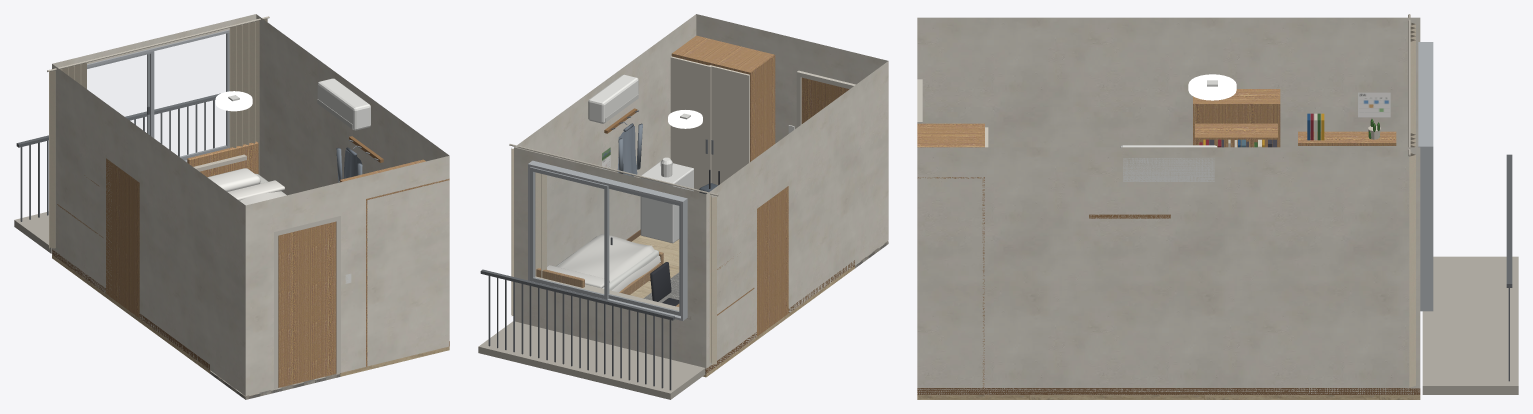
File: jp_room.glb
3 views of the same model, side by side, from view 1: azimuth 30°, elevation 25°; view 2: azimuth 150°, elevation 25°; view 3: azimuth 270°, elevation 25° (orthographic). The views are drawn at different scales.
Parts seen in each view (by area): view 1: WALL_W_wall, WALL_S_wall, WALL_E_wall, WALL_N_glass, WALL_S_door, WALL_N_curtain, WALL_W_shelf_wood, WALL_N_rail, WALL_N_frame, WALL_S_trim, WALL_E_ac, jp_room_cloth (+8 smaller); view 2: WALL_W_wall, WALL_E_wall, WALL_N_glass, WALL_N_wall, WALL_N_rail, WALL_S_closet, WALL_S_wall, WALL_N_frame, WALL_S_closet_wood, WALL_W_shelf_wood, jp_room_props, jp_room_cloth (+10 smaller); view 3: WALL_E_wall, WALL_W_wall, WALL_N_rail, WALL_W_shelf_wood, WALL_N_frame, WALL_E_trim, jp_room_floorm, WALL_E_ac, WALL_N_curtain, WALL_S_closet_wood, WALL_W_wood, jp_room_tubes (+2 smaller).
Boxes of the visible parts, bbox=[...] form: WALL_W_wall: bbox=[52, 64, 245, 395]; WALL_S_wall: bbox=[245, 156, 449, 395]; WALL_E_wall: bbox=[256, 14, 449, 195]; WALL_N_glass: bbox=[87, 34, 225, 156]; WALL_S_door: bbox=[278, 221, 336, 387]; WALL_N_curtain: bbox=[49, 19, 267, 249]; WALL_W_shelf_wood: bbox=[106, 158, 139, 318]; WALL_N_rail: bbox=[14, 93, 220, 253]; WALL_N_frame: bbox=[47, 16, 269, 162]; WALL_S_trim: bbox=[274, 216, 351, 388]; WALL_E_ac: bbox=[317, 78, 370, 130]; jp_room_cloth: bbox=[207, 168, 285, 205]; WALL_W_wall: bbox=[706, 61, 888, 372]; WALL_E_wall: bbox=[514, 14, 696, 266]; WALL_N_glass: bbox=[534, 173, 678, 310]; WALL_N_wall: bbox=[514, 147, 706, 371]; WALL_N_rail: bbox=[478, 269, 705, 399]; WALL_S_closet: bbox=[670, 56, 749, 192]; WALL_S_wall: bbox=[696, 14, 887, 143]; WALL_N_frame: bbox=[509, 144, 718, 320]; WALL_S_closet_wood: bbox=[671, 35, 775, 161]; WALL_W_shelf_wood: bbox=[757, 186, 788, 336]; jp_room_props: bbox=[556, 113, 854, 306]; jp_room_cloth: bbox=[547, 234, 660, 292]; WALL_E_wall: bbox=[917, 147, 1420, 394]; WALL_W_wall: bbox=[917, 17, 1420, 147]; WALL_N_rail: bbox=[1422, 154, 1518, 394]; WALL_W_shelf_wood: bbox=[1193, 89, 1280, 147]; WALL_N_frame: bbox=[1408, 14, 1433, 311]; WALL_E_trim: bbox=[917, 214, 1420, 394]; jp_room_floorm: bbox=[917, 395, 1420, 399]; WALL_E_ac: bbox=[1120, 145, 1216, 181]; WALL_N_curtain: bbox=[1409, 23, 1415, 387]; WALL_S_closet_wood: bbox=[917, 123, 984, 393]; WALL_W_wood: bbox=[1298, 131, 1396, 145]; jp_room_tubes: bbox=[1188, 74, 1236, 100].
Bounding box in the file's own units: 3.04 × 2.55 × 5.5.
Materials: 16 (8 with a texture image).
